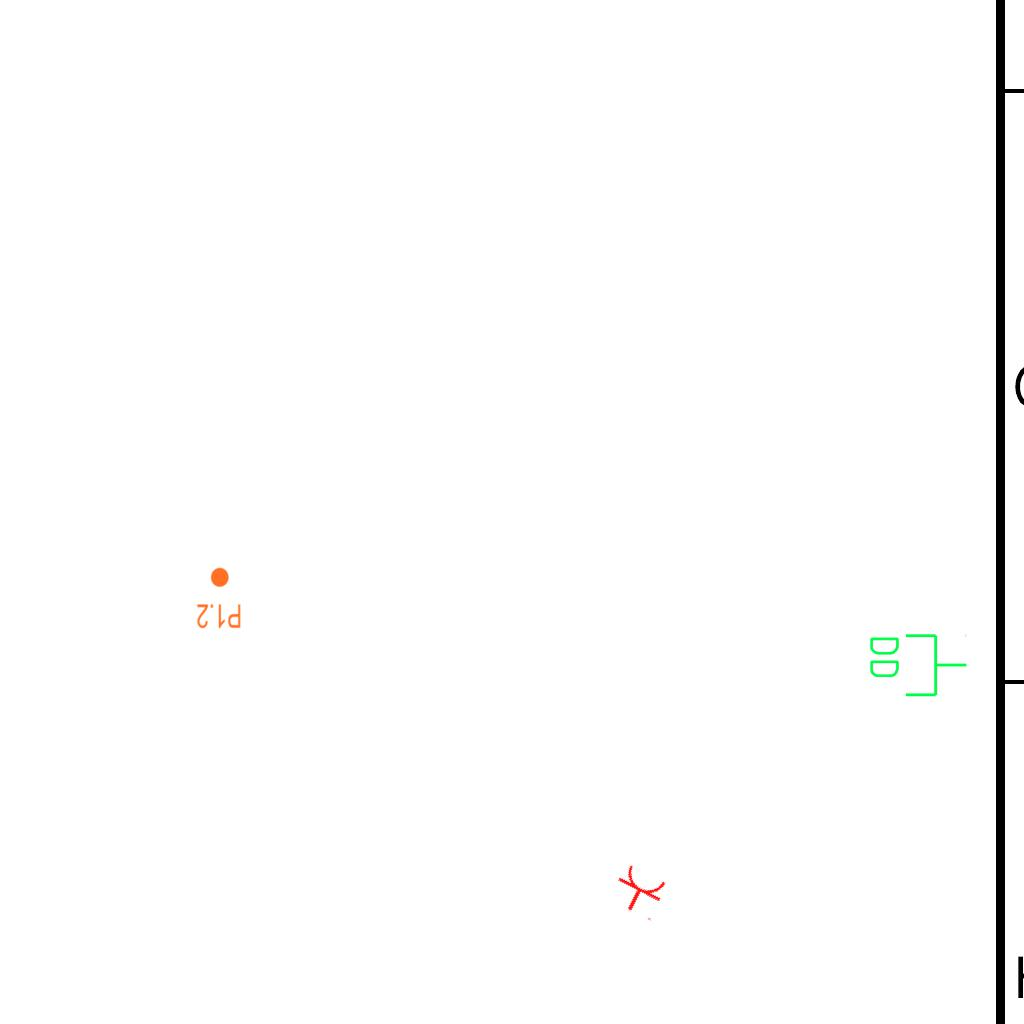Datenanschluss_zweifach: (866, 630, 969, 699)
Downlight_LED_Einbauleuchten_Flur: (196, 566, 242, 630)
Schukosteckdose_einfach: (607, 861, 672, 923)
